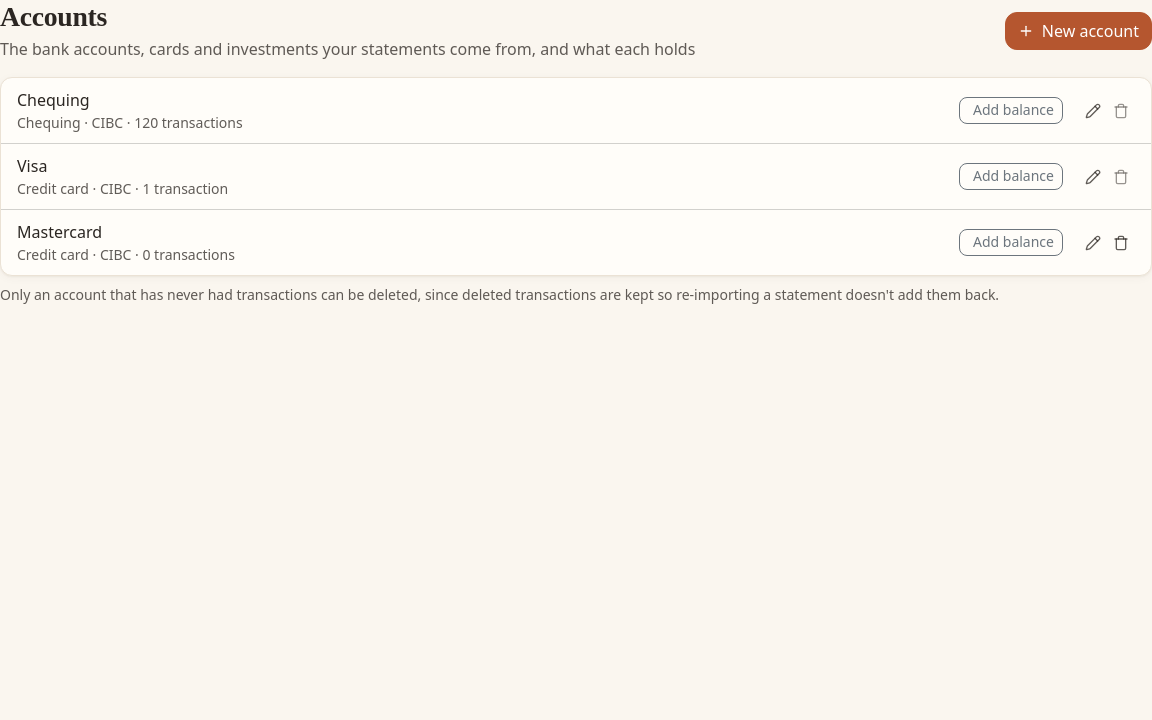
it: BankAccountListComponent › deletes only after confirmation
Click the button named "Delete Mastercard" at (1121, 243), box [1107,229,1135,257]
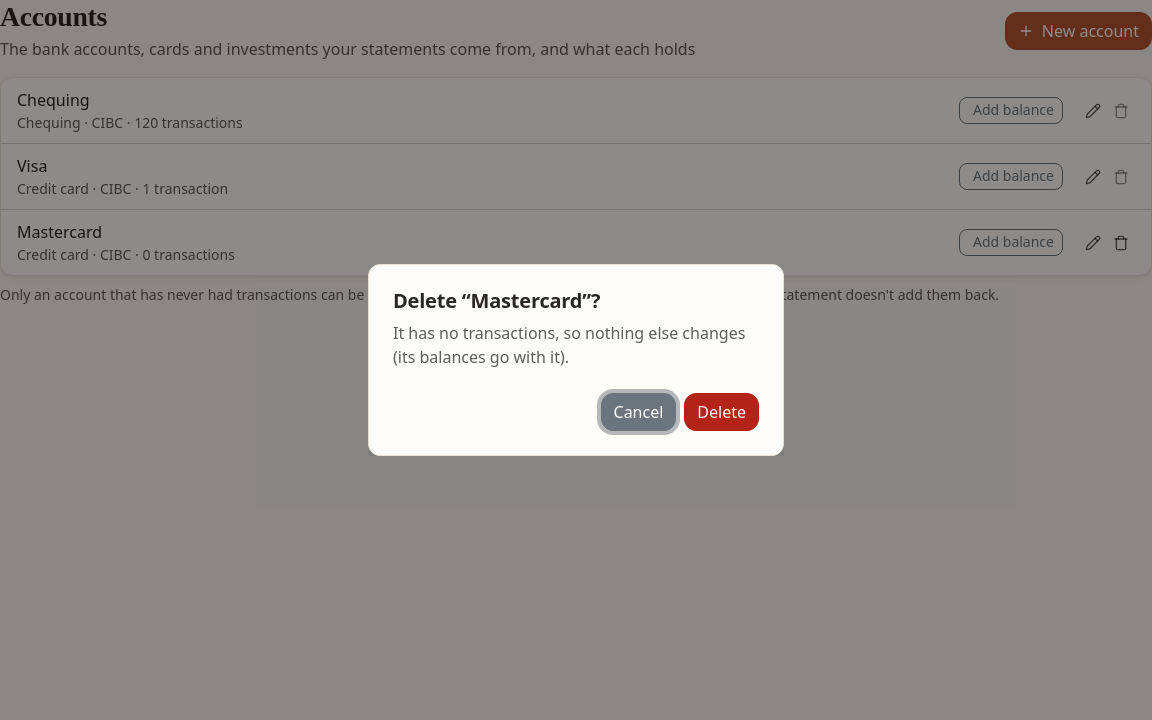
Now the dialog shows "Delete “Mastercard”?", box [393,287,600,314]
